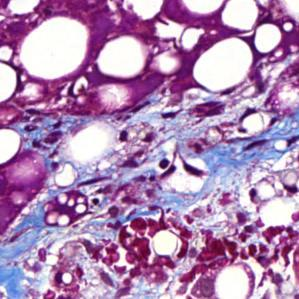steatosis: (19, 18, 93, 79), (191, 34, 252, 93)
